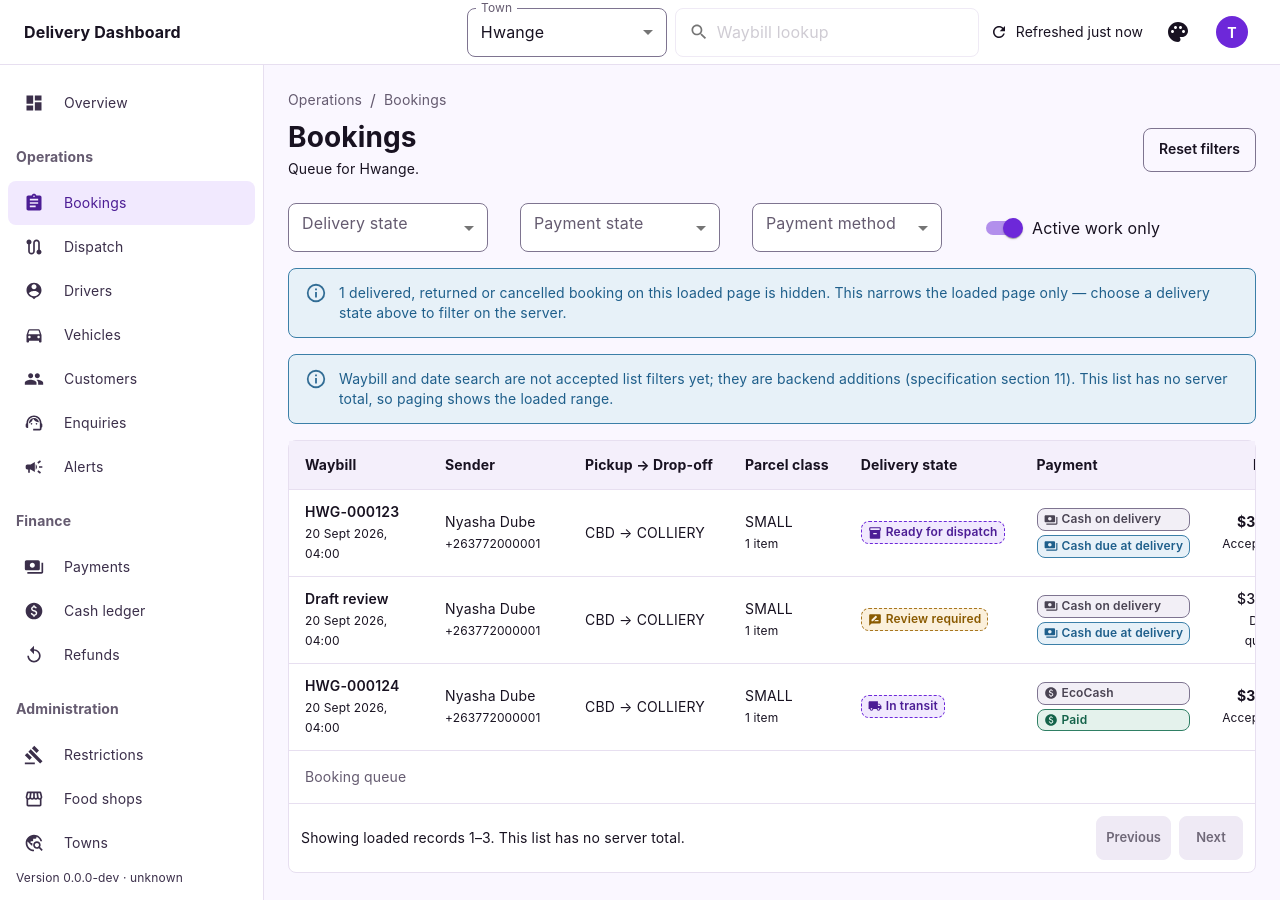
Test case: PR review regressions › hides prior-town bookings while the selected town loads
The image size is (1280, 900).
Expected: the text "HWG-000123" is shown, [305,502,413,522]
Click the dropdown named "Town" at (513, 32), box [481,22,544,42]
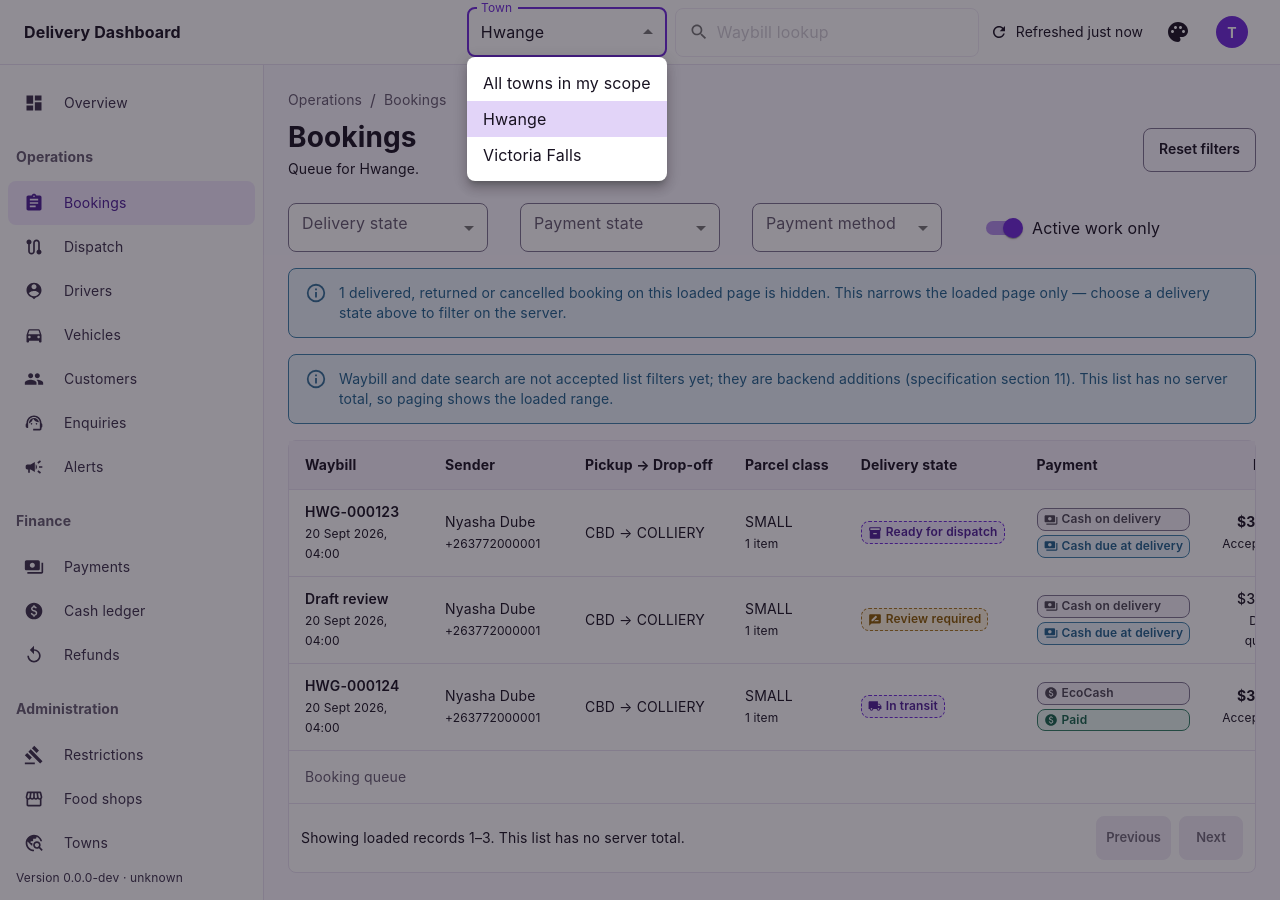
Click the option "Victoria Falls" at (532, 155), box [483,145,582,165]
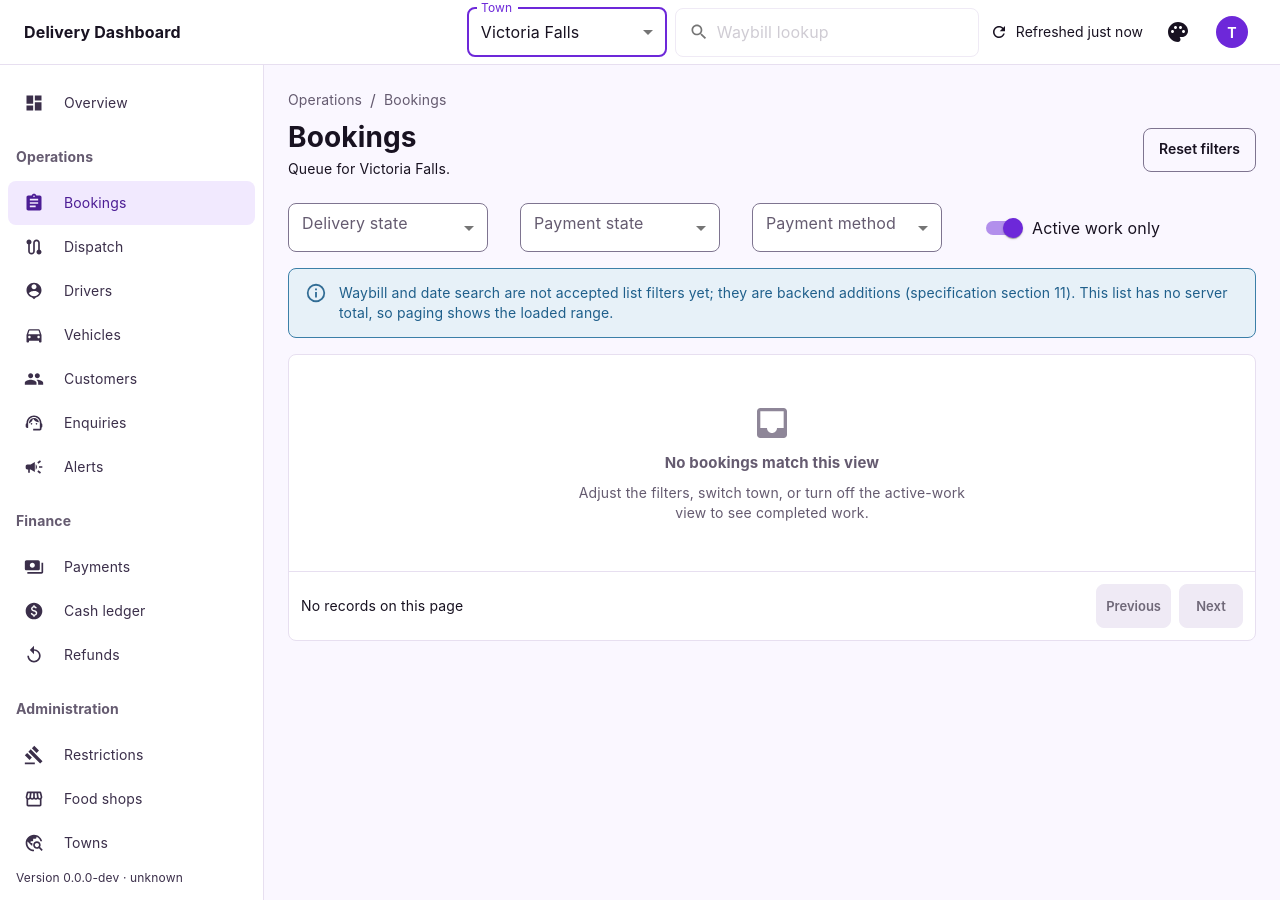
Expected: the dropdown named "Town" reads "Victoria Falls", [481,22,579,42]
Expected: the button "HWG-000123" is gone
